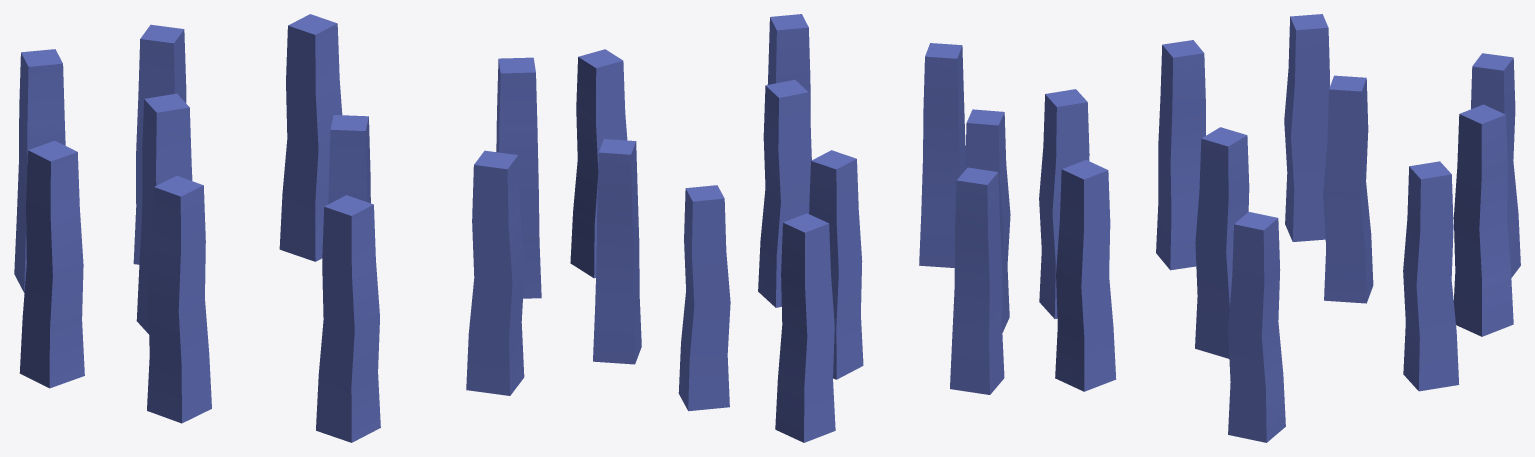
Rendered from CandleGroupHiRes.fbx.
The picture shows the model from 3 angles, left to right: view 1: azimuth 30°, elevation 25°; view 2: azimuth 150°, elevation 25°; view 3: azimuth 270°, elevation 25°; orthographic projection. The views are drawn at different scales.
Parts seen in each view (by area): view 1: pCube12; view 2: pCube12; view 3: pCube12.
Part boxes in pixels (bbox=[...]): pCube12: bbox=[14, 14, 541, 442]; pCube12: bbox=[570, 14, 1010, 442]; pCube12: bbox=[1039, 14, 1520, 442].
Bounding box in the file's own units: 1.43 × 0.6271 × 1.31.
